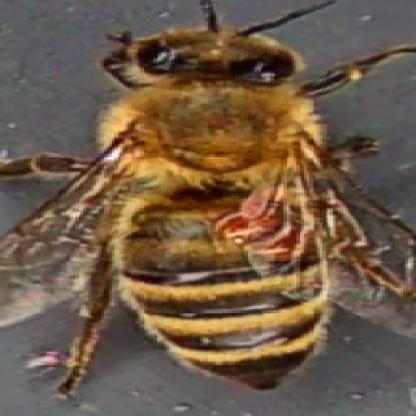bee: (83, 18, 342, 380)
vaoora: (219, 211, 276, 232), (248, 233, 300, 256)
